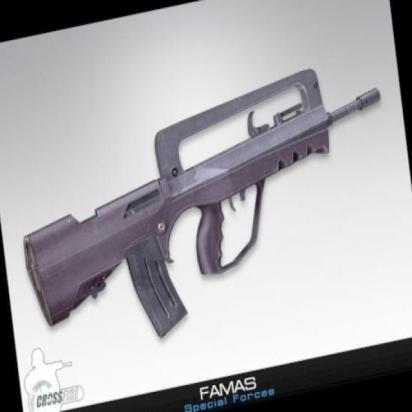Gun: (19, 60, 390, 342)
